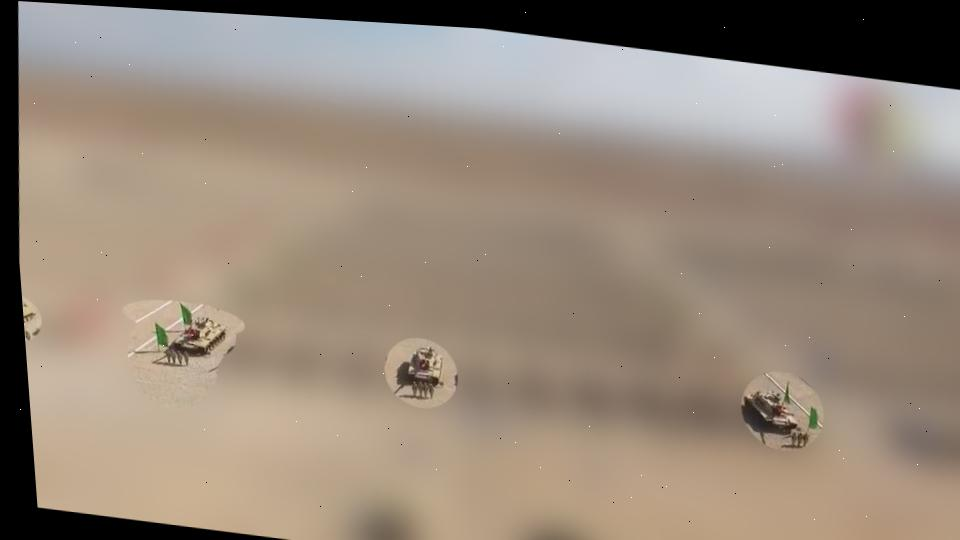armored_car: (22, 299, 36, 335)
tank: (739, 383, 806, 439), (154, 308, 229, 358), (387, 342, 450, 400)
